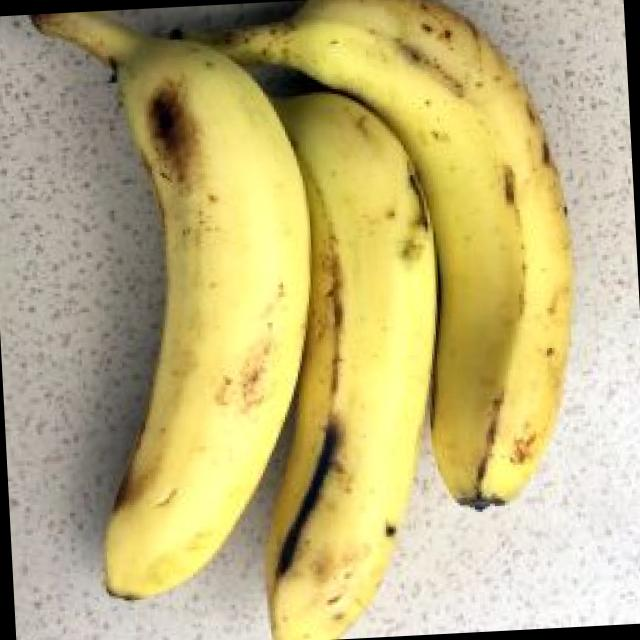banana: (177, 51, 584, 546)
